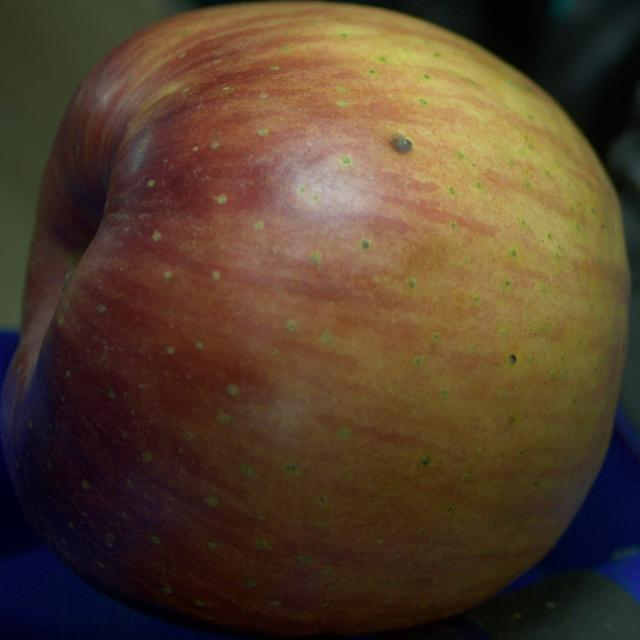apple: (0, 1, 629, 636)
pest: (391, 134, 412, 154), (509, 354, 517, 364)
